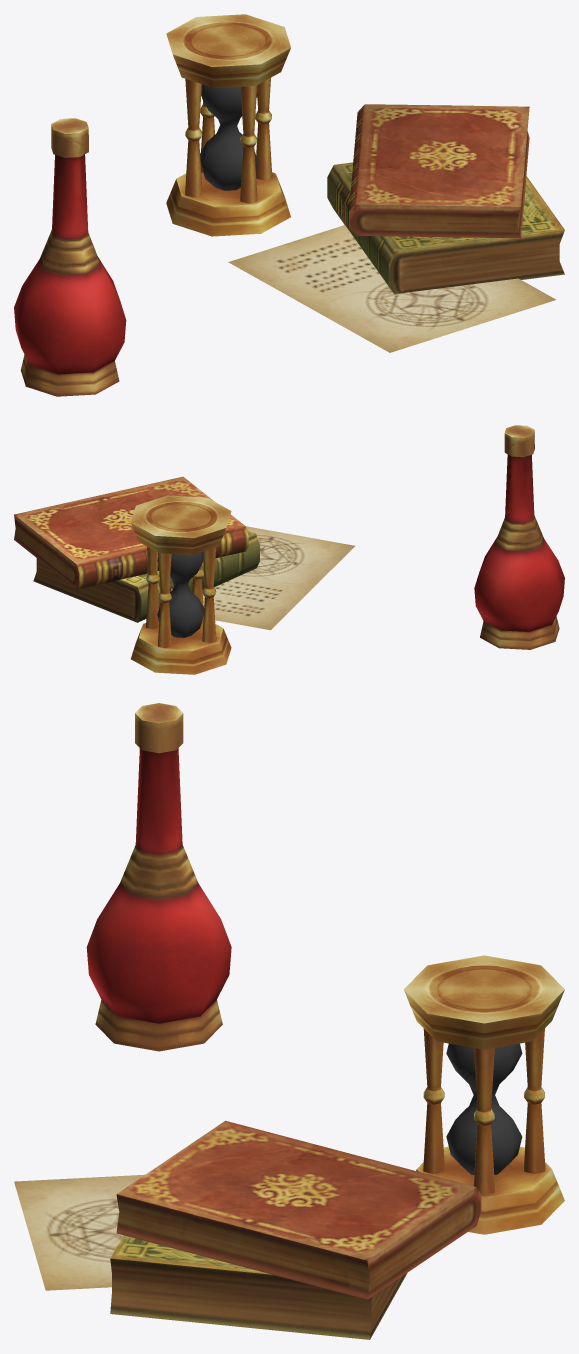
The model's file is Drawer_Preset_01.FBX.
3 renders of one model, top to bottom at view 1: azimuth 30°, elevation 25°; view 2: azimuth 150°, elevation 25°; view 3: azimuth 270°, elevation 25°, orthographic. The views are drawn at different scales.
Visible parts, largest first — view 1: Drawer_Preset_01; view 2: Drawer_Preset_01; view 3: Drawer_Preset_01.
Part boxes in pixels (bbox=[...]): Drawer_Preset_01: bbox=[14, 14, 564, 396]; Drawer_Preset_01: bbox=[14, 425, 564, 674]; Drawer_Preset_01: bbox=[14, 703, 564, 1339].
Size of the model in its own units: 119 by 76.76 by 47.92.
